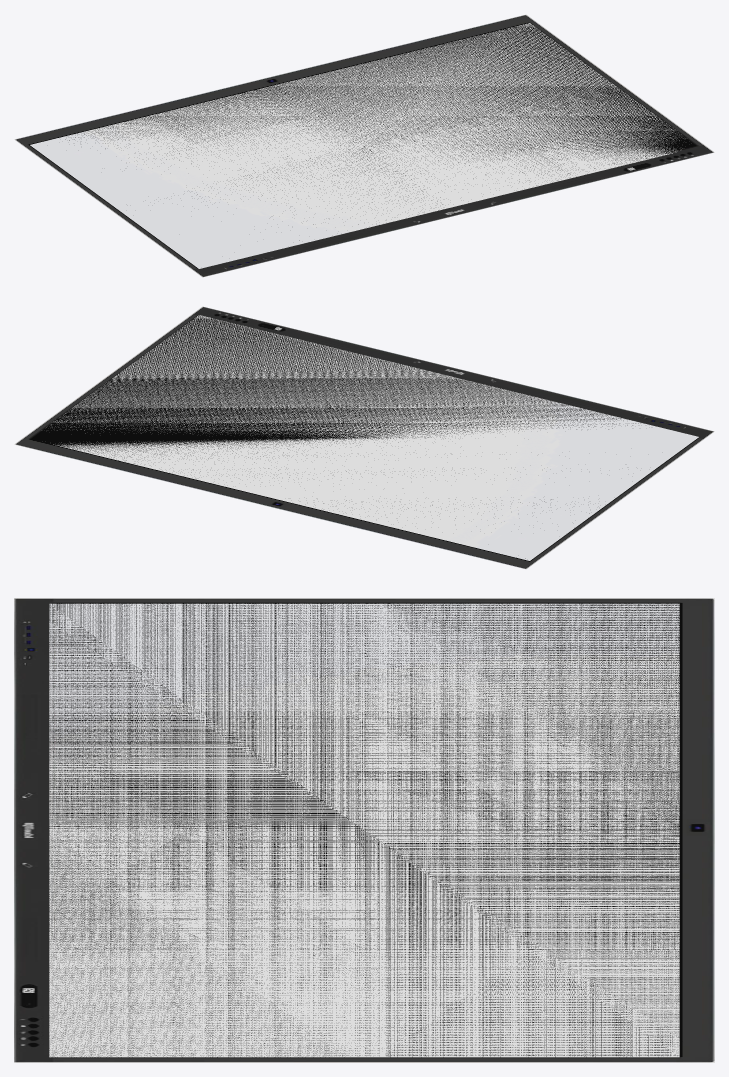
Rendered from Project Name (1).glb.
3 views of the same model, one above another, from view 1: azimuth 30°, elevation 25°; view 2: azimuth 150°, elevation 25°; view 3: azimuth 270°, elevation 25° (orthographic). The views are drawn at different scales.
Parts seen in each view (by area): view 1: Plane, TE1300s Gen2 1 - Copy; view 2: Plane, TE1300s Gen2 1 - Copy; view 3: Plane, TE1300s Gen2 1 - Copy.
Part boxes in pixels (bbox=[...]): Plane: bbox=[30, 23, 685, 268]; TE1300s Gen2 1 - Copy: bbox=[14, 14, 714, 277]; Plane: bbox=[46, 315, 698, 560]; TE1300s Gen2 1 - Copy: bbox=[14, 306, 714, 569]; Plane: bbox=[49, 603, 679, 1057]; TE1300s Gen2 1 - Copy: bbox=[14, 598, 714, 1062].
Size of the model in its own units: 0.256 by 3.62e-17 by 0.1631.
2 materials, 2 textured.
